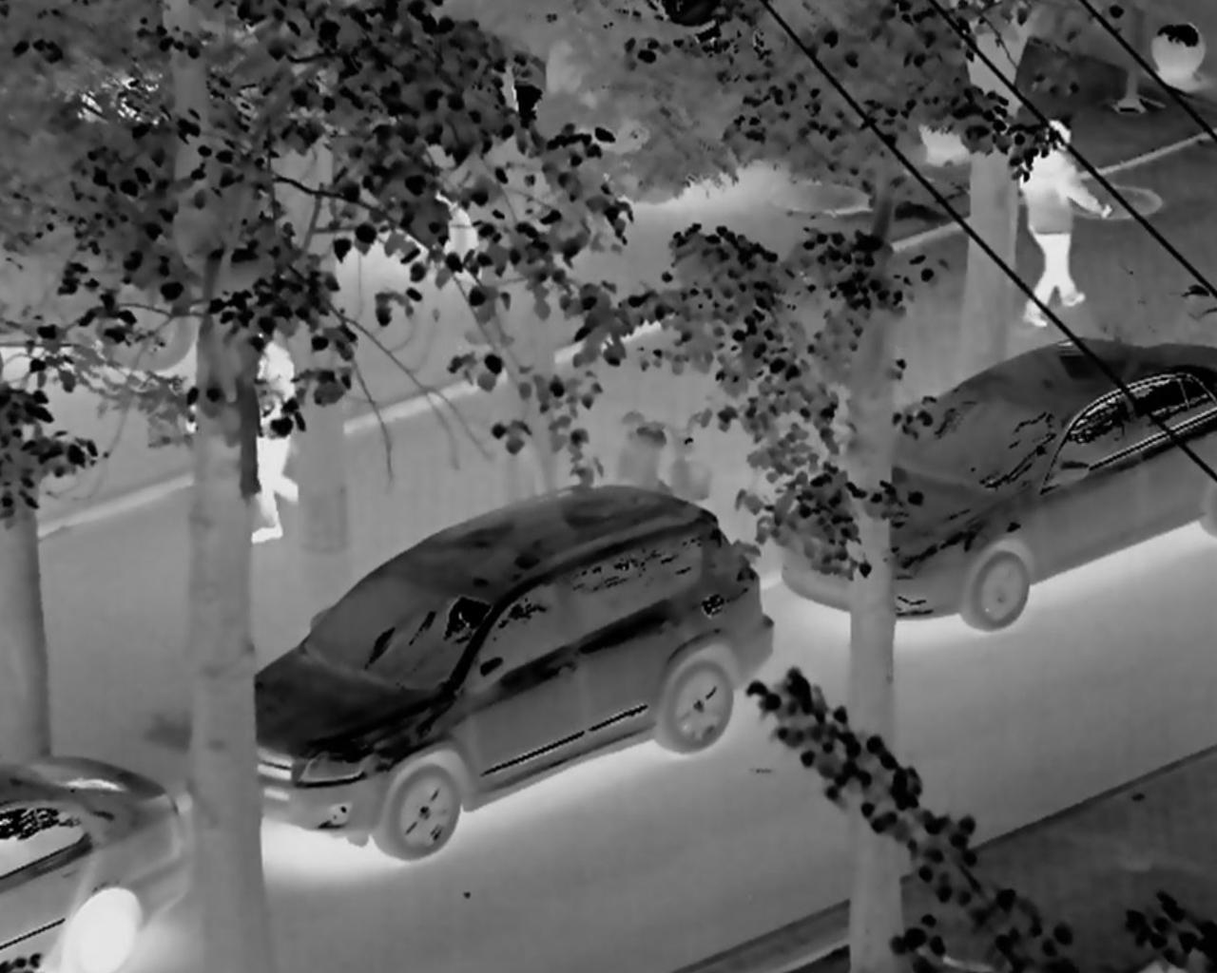person: (235, 304, 326, 550), (1014, 120, 1111, 327)
